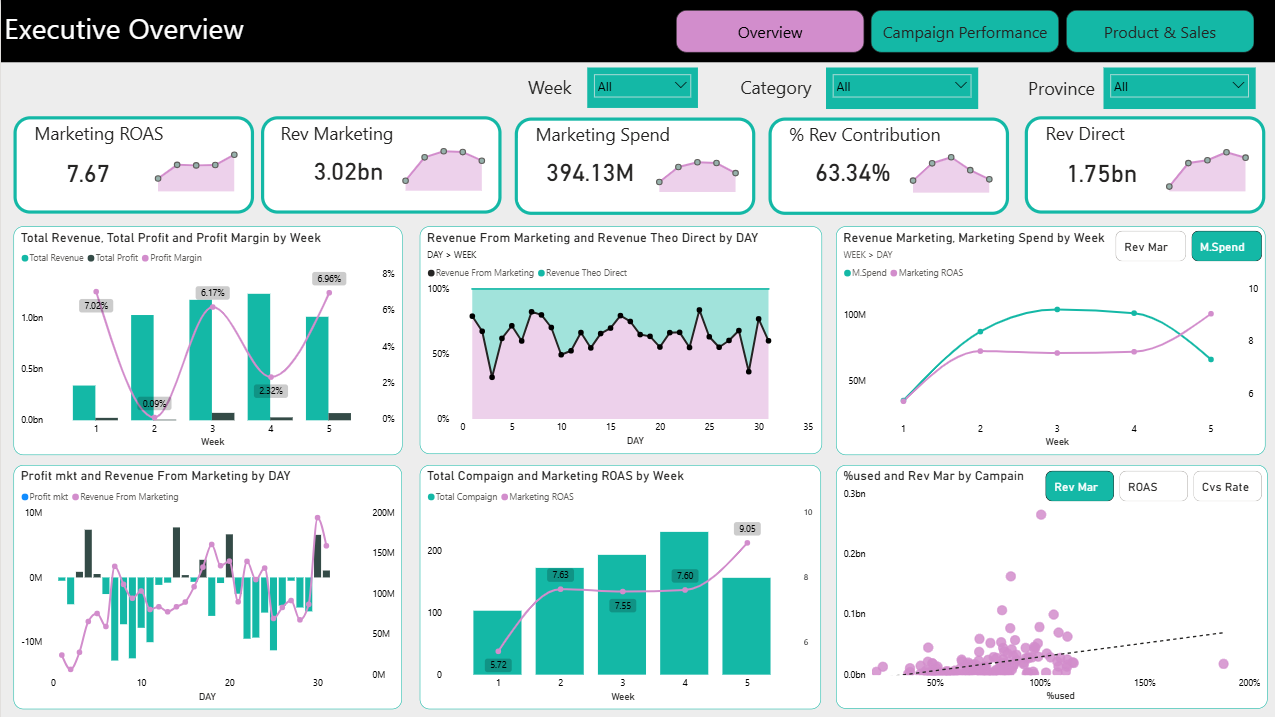

This screenshot's page, from the dashboard's own definition file:
{"tool":"powerbi","page":{"name":"Overview","canvas":[1920,1080],"ordinal":0},"visuals":[{"type":"textbox","box":[0,0,1920.4,94],"z":0},{"type":"slicer","fields":{"Values":["order.Thành phố"]},"box":[1657.5,101.9,228.4,62.3],"z":0,"group":"g10"},{"type":"textbox","box":[787,107.1,111.4,47.2],"z":0,"group":"g9"},{"type":"textbox","box":[1106.6,107.1,156.7,47.2],"z":0,"group":"g11"},{"type":"shape","box":[391.5,175.6,361.6,146.6],"z":0,"group":"g2"},{"type":"shape","box":[1539.1,175.6,361.6,146.6],"z":0,"group":"g5"},{"type":"group","id":"g1","title":"Group 1","box":[18.9,176.2,361.6,146.6],"z":0,"group":"g8"},{"type":"shape","box":[18.9,176.2,361.6,146.6],"z":0,"group":"g1"},{"type":"shape","box":[773,177.5,361.6,146.6],"z":0,"group":"g3"},{"type":"shape","box":[1153.9,177.5,361.6,146.6],"z":0,"group":"g4"},{"type":"lineChart","title":"Revenue Marketing, Marketing Spend by Week","fields":{"Y":["Measure.Revenue From Marketing"],"Category":["Dim_Date.DAY","Dim_Date.Week"],"Y2":["Measure.Marketing ROAS"]},"box":[1255.9,340.3,645.7,343.8],"z":0,"group":"g6"},{"type":"scatterChart","fields":{"Y":["Measure.Revenue From Marketing"],"Category":["mkt_camp_cost.Tên chiến dịch"],"X":["Measure.%used"]},"box":[1255.8,698.5,648.9,366.4],"z":0,"group":"g7"},{"type":"textbox","box":[0,7.4,372.3,79.2],"z":1000},{"type":"slicer","fields":{"Values":["Dim_Date.Week"]},"box":[881.4,101.4,166.1,60.4],"z":1000,"group":"g9"},{"type":"slicer","fields":{"Values":["danh sach san pham.Danh mục"]},"box":[1240.6,101.4,228.4,62.3],"z":1000,"group":"g11"},{"type":"textbox","box":[1538.6,109.5,156.7,47.2],"z":1000,"group":"g10"},{"type":"group","id":"g2","title":"Group 1","box":[391.5,175.6,361.4,147.3],"z":1000,"group":"g8"},{"type":"cardVisual","fields":{"Data":["Measure.Marketing ROAS"]},"box":[50.8,198.7,208.5,117.1],"z":1000,"group":"g1"},{"type":"cardVisual","fields":{"Data":["Measure.% Revenue Contribution"]},"box":[1177.3,199.3,220.4,113.3],"z":1000,"group":"g4"},{"type":"cardVisual","fields":{"Data":["Measure.Revenue Theo Direct"]},"box":[1554.1,199.3,230.3,115.2],"z":1000,"group":"g5"},{"type":"cardVisual","fields":{"Data":["Measure.Marketing Spend"]},"box":[772.7,204.3,240.2,105.7],"z":1000,"group":"g3"},{"type":"cardVisual","fields":{"Data":["Measure.Revenue From Marketing"]},"box":[422.6,204.7,209.9,102.4],"z":1000,"group":"g2"},{"type":"advancedSlicerVisual","fields":{"Values":["Parameter_page1.Parameter_page1"]},"box":[1671.4,341.6,230.3,56.6],"z":1000,"group":"g6"},{"type":"advancedSlicerVisual","fields":{"Values":["Parameter.Parameter"]},"box":[1565.6,703,336.6,56.1],"z":1000,"group":"g7"},{"type":"pageNavigator","box":[1015.5,14.7,871.7,64.5],"z":2000},{"type":"group","id":"g3","title":"Group 1","box":[772.7,177.5,361.4,147.3],"z":2000,"group":"g8"},{"type":"lineChart","fields":{"Category":["Dim_Date.Week"],"Y":["Measure.Revenue From Marketing"]},"box":[591.8,209.2,147.6,84.3],"z":2000,"group":"g2"},{"type":"lineChart","fields":{"Category":["Dim_Date.Week"],"Y":["Measure.Revenue Theo Direct"]},"box":[1739.4,209.2,147.6,84.3],"z":2000,"group":"g5"},{"type":"lineChart","fields":{"Category":["Dim_Date.Week"],"Y":["Measure.Marketing ROAS"]},"box":[219.2,209.8,147.6,84.3],"z":2000,"group":"g1"},{"type":"lineChart","fields":{"Category":["Dim_Date.Week"],"Y":["Measure.Marketing ROAS"]},"box":[973.3,211.1,147.6,84.3],"z":2000,"group":"g3"},{"type":"lineChart","fields":{"Category":["Dim_Date.Week"],"Y":["Measure.% Revenue Contribution"]},"box":[1354.2,211.1,147.6,84.3],"z":2000,"group":"g4"},{"type":"textbox","box":[415,177.3,237.9,54.3],"z":3000,"group":"g2"},{"type":"textbox","box":[1565.8,177.3,234.1,54.3],"z":3000,"group":"g5"},{"type":"group","id":"g4","title":"Group 1","box":[1153.9,177.5,361.4,147.3],"z":3000,"group":"g8"},{"type":"textbox","box":[45.6,177.9,234.1,54.3],"z":3000,"group":"g1"},{"type":"textbox","box":[1179.3,178.7,266.1,54.7],"z":3000,"group":"g4"},{"type":"textbox","box":[799.7,179.2,234.1,54.3],"z":3000,"group":"g3"},{"type":"hundredPercentStackedAreaChart","fields":{"Y":["Measure.Revenue From Marketing","Measure.Revenue Theo Direct"],"Category":["Dim_Date.DAY","Dim_Date.Week"]},"box":[629.8,340.2,604.4,342],"z":3000},{"type":"group","id":"g5","title":"Group 1","box":[1539.1,175.6,361.6,146.6],"z":4000,"group":"g8"},{"type":"lineClusteredColumnComboChart","fields":{"Category":["Dim_Date.DAY"],"Y":["Measure.Profit mkt"],"Y2":["Measure.Revenue From Marketing"]},"box":[18.8,699.1,584.3,367.3],"z":4000},{"type":"lineClusteredColumnComboChart","fields":{"Category":["Dim_Date.Week"],"Y":["Measure.Total Revenue","Measure.Total Profit"],"Y2":["Measure.Net Profit"]},"box":[18.1,340.2,584.5,343.8],"z":5000},{"type":"group","id":"g6","title":"Chart 2","box":[1255.9,340.3,645.8,343.8],"z":6000},{"type":"lineClusteredColumnComboChart","fields":{"Category":["Dim_Date.Week"],"Y2":["Measure.Marketing ROAS"],"Y":["Measure.Total Compain"]},"box":[630.3,699.1,603.1,367.3],"z":7000},{"type":"group","id":"g7","title":"chart cuối","box":[1255.8,698.5,648.9,366.4],"z":8000},{"type":"group","id":"g8","title":"Group 2","box":[18.9,175.6,1882.2,149.1],"z":9000},{"type":"group","id":"g9","title":"Week","box":[787,101.4,260.1,61.7],"z":10000},{"type":"group","id":"g10","title":"Province","box":[1538.6,101.9,347.4,62.3],"z":11000},{"type":"group","id":"g11","title":"Category","box":[1106.6,101.4,363.7,61.7],"z":12000}]}

Visuals, with their boxes in screenshot pixels (x1, y1, x2, y2), scaled from the page's 1920x1080 canvas onto the 1275x717 screenshot:
textbox: bbox=(0, 0, 1274, 62)
slicer - order.Thành phố: bbox=(1101, 68, 1252, 109)
textbox: bbox=(523, 71, 597, 102)
textbox: bbox=(735, 71, 839, 102)
shape: bbox=(260, 117, 500, 214)
shape: bbox=(1022, 117, 1262, 214)
"Group 1" group: bbox=(13, 117, 253, 214)
shape: bbox=(13, 117, 253, 214)
shape: bbox=(513, 118, 753, 215)
shape: bbox=(766, 118, 1006, 215)
"Revenue Marketing, Marketing Spend by Week" lineChart: bbox=(834, 226, 1263, 454)
scatterChart - Measure.Revenue From Marketing x mkt_camp_cost.Tên chiến dịch: bbox=(834, 464, 1265, 707)
textbox: bbox=(0, 5, 247, 57)
slicer - Dim_Date.Week: bbox=(585, 67, 696, 107)
slicer - danh sach san pham.Danh mục: bbox=(824, 67, 976, 109)
textbox: bbox=(1022, 73, 1126, 104)
"Group 1" group: bbox=(260, 117, 500, 214)
cardVisual - Measure.Marketing ROAS: bbox=(34, 132, 172, 210)
cardVisual - Measure.% Revenue Contribution: bbox=(782, 132, 928, 208)
cardVisual - Measure.Revenue Theo Direct: bbox=(1032, 132, 1185, 209)
cardVisual - Measure.Marketing Spend: bbox=(513, 136, 673, 206)
cardVisual - Measure.Revenue From Marketing: bbox=(281, 136, 420, 204)
advancedSlicerVisual - Parameter_page1.Parameter_page1: bbox=(1110, 227, 1263, 264)
advancedSlicerVisual - Parameter.Parameter: bbox=(1040, 467, 1263, 504)
pageNavigator: bbox=(674, 10, 1253, 53)
"Group 1" group: bbox=(513, 118, 753, 216)
lineChart - Dim_Date.Week x Measure.Revenue From Marketing: bbox=(393, 139, 491, 195)
lineChart - Dim_Date.Week x Measure.Revenue Theo Direct: bbox=(1155, 139, 1253, 195)
lineChart - Dim_Date.Week x Measure.Marketing ROAS: bbox=(146, 139, 244, 195)
lineChart - Dim_Date.Week x Measure.Marketing ROAS: bbox=(646, 140, 744, 196)
lineChart - Dim_Date.Week x Measure.% Revenue Contribution: bbox=(899, 140, 997, 196)
textbox: bbox=(276, 118, 434, 154)
textbox: bbox=(1040, 118, 1195, 154)
"Group 1" group: bbox=(766, 118, 1006, 216)
textbox: bbox=(30, 118, 186, 154)
textbox: bbox=(783, 119, 960, 155)
textbox: bbox=(531, 119, 687, 155)
hundredPercentStackedAreaChart - Measure.Revenue From Marketing x Measure.Revenue Theo Direct: bbox=(418, 226, 820, 453)
"Group 1" group: bbox=(1022, 117, 1262, 214)
lineClusteredColumnComboChart - Dim_Date.DAY x Measure.Profit mkt: bbox=(12, 464, 400, 708)
lineClusteredColumnComboChart - Dim_Date.Week x Measure.Total Revenue: bbox=(12, 226, 400, 454)
"Chart 2" group: bbox=(834, 226, 1263, 454)
lineClusteredColumnComboChart - Dim_Date.Week x Measure.Marketing ROAS: bbox=(419, 464, 819, 708)
"chart cuối" group: bbox=(834, 464, 1265, 707)
"Group 2" group: bbox=(13, 117, 1262, 216)
"Week" group: bbox=(523, 67, 695, 108)
"Province" group: bbox=(1022, 68, 1252, 109)
"Category" group: bbox=(735, 67, 976, 108)
